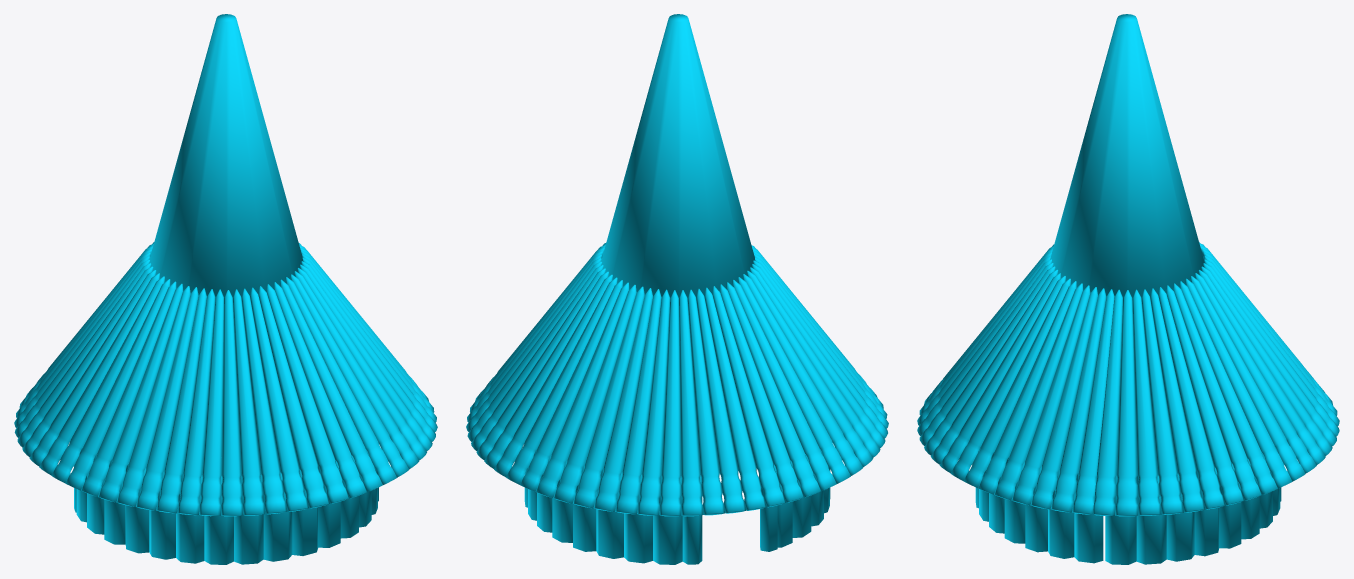
Rendered from HutWithRoof.fbx.
The picture shows the model from 3 angles, left to right: view 1: azimuth 30°, elevation 25°; view 2: azimuth 150°, elevation 25°; view 3: azimuth 270°, elevation 25°; orthographic projection.
Parts seen in each view (by area): view 1: Hut_low, Roof_low; view 2: Hut_low, Roof_low; view 3: Hut_low, Roof_low.
Boxes of the visible parts, box(x1,y1,x2,y2) form: Hut_low: box(14, 242, 437, 564); Roof_low: box(149, 14, 303, 297); Hut_low: box(466, 243, 888, 564); Roof_low: box(601, 14, 755, 297); Hut_low: box(917, 242, 1339, 564); Roof_low: box(1050, 14, 1204, 297).
Size of the model in its own units: 16858 by 21183 by 16834.
